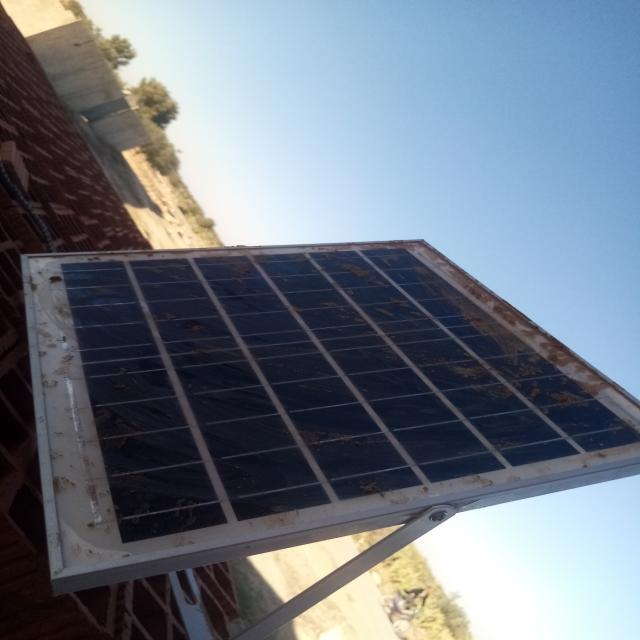faulty: (23, 240, 640, 572)
